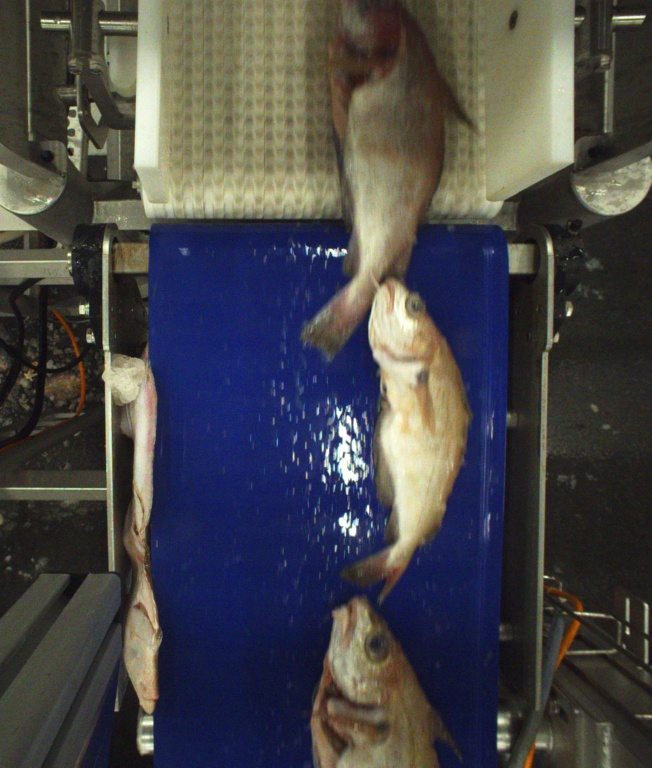BIB: (344, 269, 468, 606)
